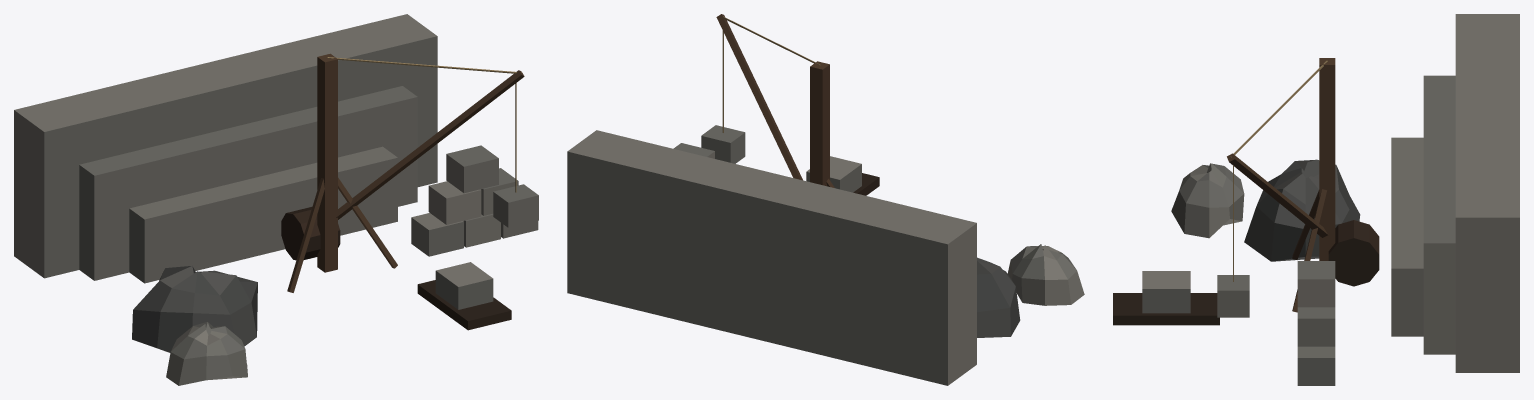
The model's file is walk_sunborn_quarry.glb.
3 renders of one model, left to right at view 1: azimuth 30°, elevation 25°; view 2: azimuth 150°, elevation 25°; view 3: azimuth 270°, elevation 25°, orthographic. The views are drawn at different scales.
Visible parts, largest first — view 1: walk_sunborn_quarry; view 2: walk_sunborn_quarry; view 3: walk_sunborn_quarry.
Part boxes in pixels (<box>): walk_sunborn_quarry: <box>14,14,538,385</box>; walk_sunborn_quarry: <box>567,14,1084,385</box>; walk_sunborn_quarry: <box>1113,14,1519,385</box>.
Size of what is drawn, in the model's own units: 9.6 by 5.18 by 7.6.
Materials: 1 (1 with a texture image).
